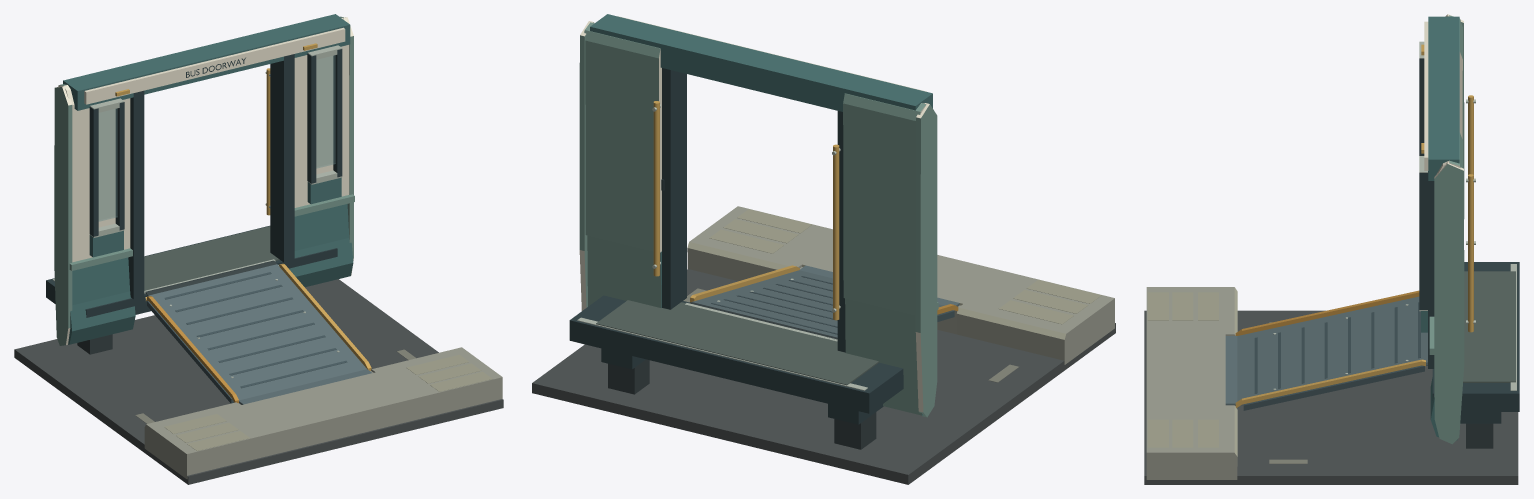
The model's file is public-bus-fold-out-boarding-ramp-cutaway.glb.
3 renders of one model, left to right at view 1: azimuth 30°, elevation 25°; view 2: azimuth 150°, elevation 25°; view 3: azimuth 270°, elevation 25°, orthographic. The views are drawn at different scales.
Visible parts, largest first — view 1: Flat asphalt street-section base, One continuous sloped boarding deck with rolled-off toe end, Center curb segment with actual recessed tongue seat, Upper cream outer skin framed short module, Upper retained lintel across open safe exhibit space, Upper cream outer skin framed short module.001, Side chamfered curb face and walking edge, Carried doorway cut section pillar.001, Deliberate sectioned edge of left or right vehicle shell, Solid continuous interior floor up to sill, Side chamfered curb face and walking edge.001, Rounded bus exterior low skirt section (+27 smaller); view 2: Flat asphalt street-section base, Upper cream outer skin framed short module, Upper cream outer skin framed short module.001, Upper retained lintel across open safe exhibit space, Solid continuous interior floor up to sill, Cabin structural floor tub, Side chamfered curb face and walking edge, Deliberate sectioned edge of left or right vehicle shell, Carried doorway cut section pillar.001, Side chamfered curb face and walking edge.001, One continuous sloped boarding deck with rolled-off toe end, Rounded bus exterior low skirt section (+16 smaller); view 3: Flat asphalt street-section base, One continuous sloped boarding deck with rolled-off toe end, Deliberate sectioned edge of left or right vehicle shell.001, Center curb segment with actual recessed tongue seat, Solid continuous interior floor up to sill, Side chamfered curb face and walking edge.001, Upper retained lintel across open safe exhibit space, Side chamfered curb face and walking edge, Cabin structural floor tub, Actual lower side structural rail under slope.001, Continuous raised side guide edge beside the clear path.001, Visible open parked door vertical section.003 (+16 smaller).
Boxes of the visible parts, x1=… form: Flat asphalt street-section base: x1=14, y1=279, x2=503, y2=484; One continuous sloped boarding deck with rolled-off toe end: x1=148, y1=264, x2=366, y2=400; Center curb segment with actual recessed tongue seat: x1=238, y1=371, x2=412, y2=453; Upper cream outer skin framed short module: x1=58, y1=84, x2=130, y2=262; Upper retained lintel across open safe exhibit space: x1=63, y1=14, x2=350, y2=110; Upper cream outer skin framed short module.001: x1=294, y1=16, x2=349, y2=207; Side chamfered curb face and walking edge: x1=144, y1=402, x2=277, y2=478; Carried doorway cut section pillar.001: x1=270, y1=54, x2=294, y2=262; Deliberate sectioned edge of left or right vehicle shell: x1=54, y1=86, x2=72, y2=345; Solid continuous interior floor up to sill: x1=144, y1=226, x2=279, y2=290; Side chamfered curb face and walking edge.001: x1=371, y1=347, x2=502, y2=420; Rounded bus exterior low skirt section: x1=68, y1=257, x2=135, y2=344; Flat asphalt street-section base: x1=532, y1=269, x2=1115, y2=484; Upper cream outer skin framed short module: x1=843, y1=93, x2=926, y2=315; Upper cream outer skin framed short module.001: x1=584, y1=22, x2=661, y2=252; Upper retained lintel across open safe exhibit space: x1=590, y1=14, x2=932, y2=111; Solid continuous interior floor up to sill: x1=596, y1=300, x2=878, y2=385; Cabin structural floor tub: x1=569, y1=295, x2=903, y2=413; Side chamfered curb face and walking edge: x1=956, y1=272, x2=1114, y2=364; Deliberate sectioned edge of left or right vehicle shell: x1=915, y1=103, x2=937, y2=417; Carried doorway cut section pillar.001: x1=662, y1=68, x2=686, y2=309; Side chamfered curb face and walking edge.001: x1=687, y1=206, x2=832, y2=281; One continuous sloped boarding deck with rolled-off toe end: x1=692, y1=270, x2=953, y2=337; Rounded bus exterior low skirt section: x1=845, y1=298, x2=922, y2=415; Flat asphalt street-section base: x1=1144, y1=310, x2=1518, y2=484; One continuous sloped boarding deck with rolled-off toe end: x1=1237, y1=296, x2=1427, y2=405; Deliberate sectioned edge of left or right vehicle shell.001: x1=1434, y1=162, x2=1464, y2=444; Center curb segment with actual recessed tongue seat: x1=1146, y1=334, x2=1237, y2=408; Solid continuous interior floor up to sill: x1=1463, y1=271, x2=1515, y2=382; Side chamfered curb face and walking edge.001: x1=1146, y1=405, x2=1237, y2=479; Upper retained lintel across open safe exhibit space: x1=1428, y1=16, x2=1459, y2=180; Side chamfered curb face and walking edge: x1=1146, y1=287, x2=1237, y2=335; Cabin structural floor tub: x1=1432, y1=262, x2=1519, y2=411; Actual lower side structural rail under slope.001: x1=1243, y1=365, x2=1424, y2=410; Continuous raised side guide edge beside the clear path.001: x1=1235, y1=359, x2=1425, y2=407; Visible open parked door vertical section.003: x1=1419, y1=173, x2=1427, y2=309.
Bounding box in the file's own units: 2.09 × 1.84 × 2.
